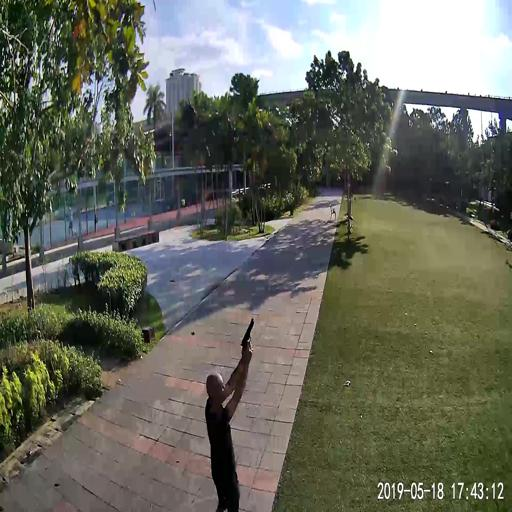pistol: (239, 314, 254, 349)
